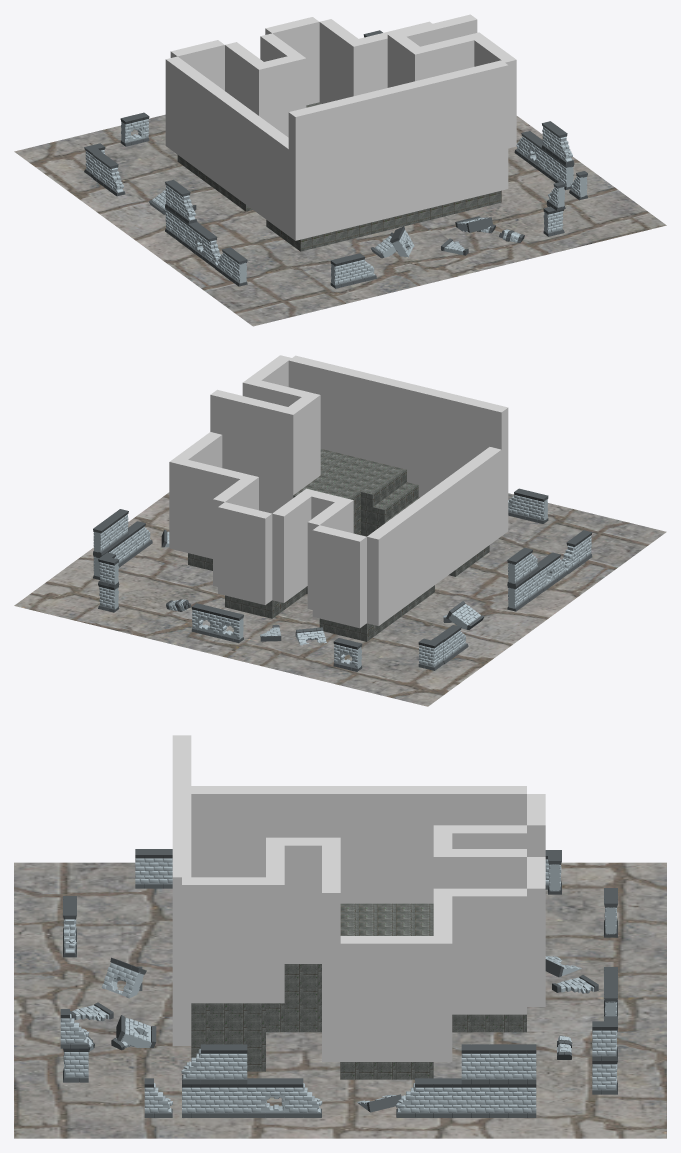
The model's file is Stage.gltf.
3 views of the same model, one above another, from view 1: azimuth 30°, elevation 25°; view 2: azimuth 150°, elevation 25°; view 3: azimuth 270°, elevation 25° (orthographic). The views are drawn at different scales.
Visible parts, largest first — view 1: 仮地面, 透明壁.011, 透明壁.010, 透明壁.007, 透明壁.004, 透明壁.002, 透明壁.005, 透明壁.003, 透明壁.008, 透明壁.014, 透明壁.012, 透明壁.009 (+13 smaller); view 2: 仮地面, 透明壁.011, 透明壁.010, 透明壁.003, 透明壁.009, 透明壁.005, 透明壁.002, 透明壁.006, 透明壁.013, 透明壁.004, 透明壁.008, 透明壁.014 (+13 smaller); view 3: 仮地面, 透明壁.010, 透明壁.012, 透明壁.001, 透明壁.004, 透明壁.013, 透明壁.011, 透明壁.003, 透明壁.006, 透明壁.002, 透明壁.005, 透明壁.014 (+27 smaller).
Part boxes in pixels (bbox=[...]): 仮地面: bbox=[14, 114, 666, 326]; 透明壁.011: bbox=[288, 60, 508, 239]; 透明壁.010: bbox=[165, 56, 307, 240]; 透明壁.007: bbox=[252, 54, 306, 137]; 透明壁.004: bbox=[319, 19, 365, 103]; 透明壁.002: bbox=[347, 21, 432, 96]; 透明壁.005: bbox=[265, 17, 319, 105]; 透明壁.003: bbox=[387, 14, 477, 87]; 透明壁.008: bbox=[225, 42, 270, 114]; 透明壁.014: bbox=[420, 32, 483, 78]; 透明壁.012: bbox=[474, 35, 516, 148]; 透明壁.009: bbox=[170, 40, 224, 90]; 仮地面: bbox=[14, 492, 666, 706]; 透明壁.011: bbox=[288, 355, 508, 535]; 透明壁.010: bbox=[367, 445, 508, 625]; 透明壁.003: bbox=[210, 389, 299, 513]; 透明壁.009: bbox=[312, 525, 366, 628]; 透明壁.005: bbox=[218, 502, 272, 605]; 透明壁.002: bbox=[169, 457, 258, 558]; 透明壁.006: bbox=[272, 488, 316, 602]; 透明壁.013: bbox=[289, 392, 320, 489]; 透明壁.004: bbox=[213, 477, 258, 586]; 透明壁.008: bbox=[307, 500, 353, 609]; 透明壁.014: bbox=[242, 378, 308, 406]; 仮地面: bbox=[14, 862, 666, 1138]; 透明壁.010: bbox=[191, 786, 526, 903]; 透明壁.012: bbox=[182, 877, 275, 1003]; 透明壁.001: bbox=[340, 936, 433, 1061]; 透明壁.004: bbox=[434, 888, 526, 1014]; 透明壁.013: bbox=[266, 837, 321, 963]; 透明壁.011: bbox=[172, 735, 191, 1046]; 透明壁.003: bbox=[322, 837, 340, 1061]; 透明壁.006: bbox=[433, 849, 526, 888]; 透明壁.002: bbox=[433, 888, 452, 1061]; 透明壁.005: bbox=[527, 857, 545, 1006]; 透明壁.014: bbox=[266, 845, 284, 1003].
Size of the model in its own units: 70 by 24.81 by 70.
Materials: 321 (305 with a texture image).
